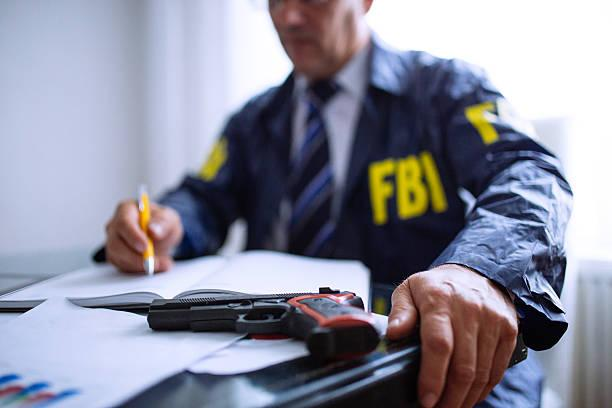weapon: (141, 282, 382, 361)
